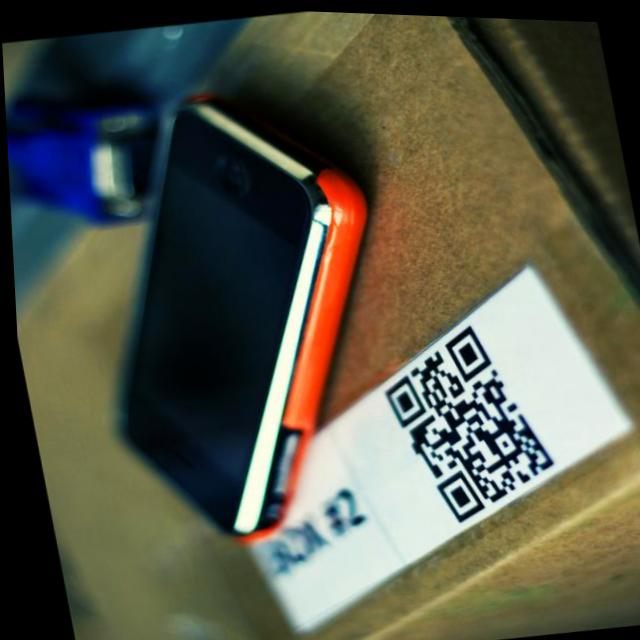qrcode: (370, 311, 561, 530)
